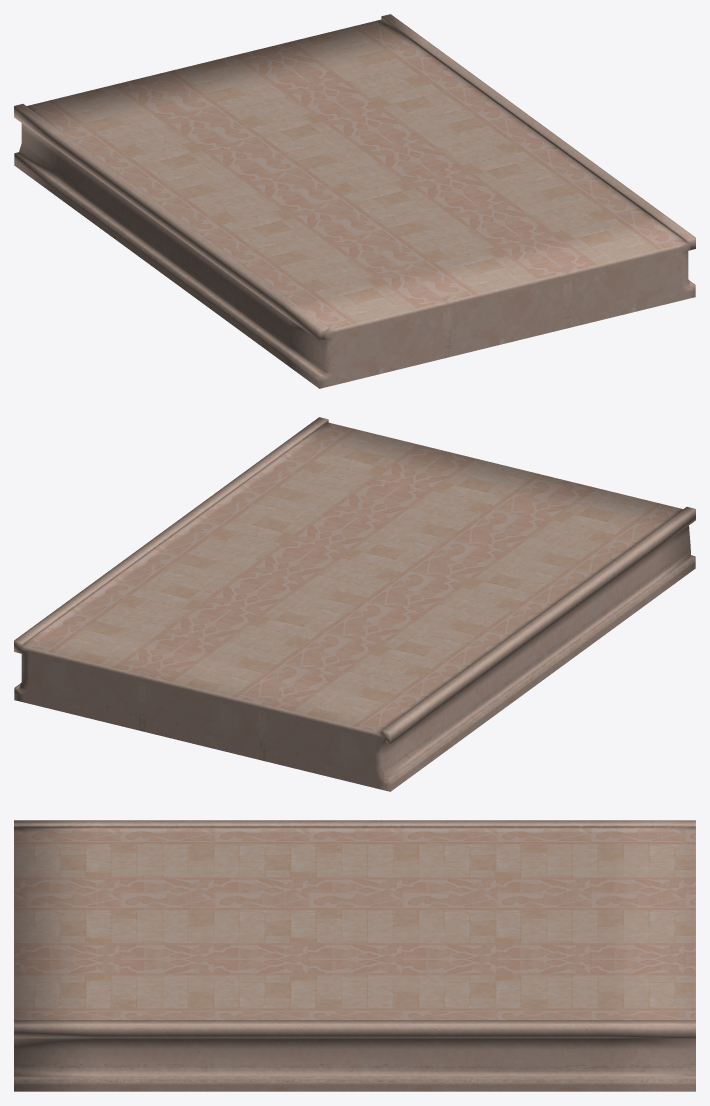
Rendered from 弹幕路段.fbx.
The picture shows the model from 3 angles, top to bottom: view 1: azimuth 30°, elevation 25°; view 2: azimuth 150°, elevation 25°; view 3: azimuth 270°, elevation 25°; orthographic projection. The views are drawn at different scales.
Visible parts, largest first — view 1: 平面.039; view 2: 平面.039; view 3: 平面.039.
Part boxes in pixels (box(x1,y1,x2,y2)): 平面.039: box(14, 14, 695, 388); 平面.039: box(14, 417, 695, 791); 平面.039: box(14, 820, 695, 1091).
Size of the model in its own units: 862 by 130 by 1210.
